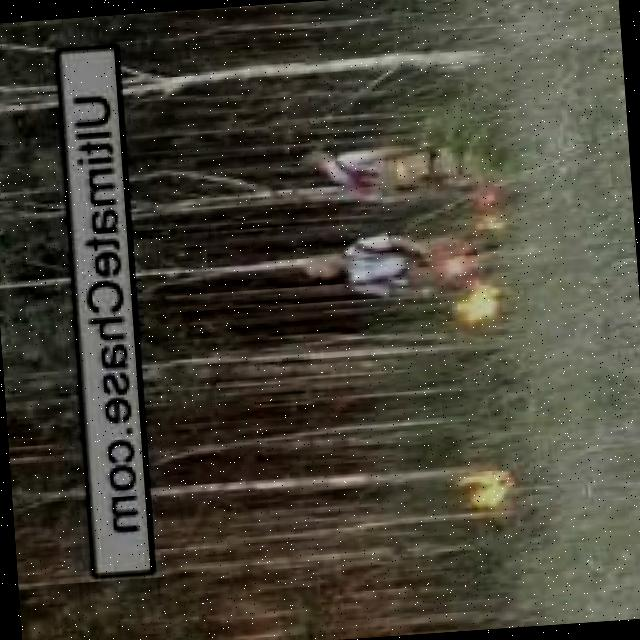fire: (457, 466, 526, 514), (452, 282, 504, 330), (466, 190, 509, 232), (440, 251, 472, 277)
